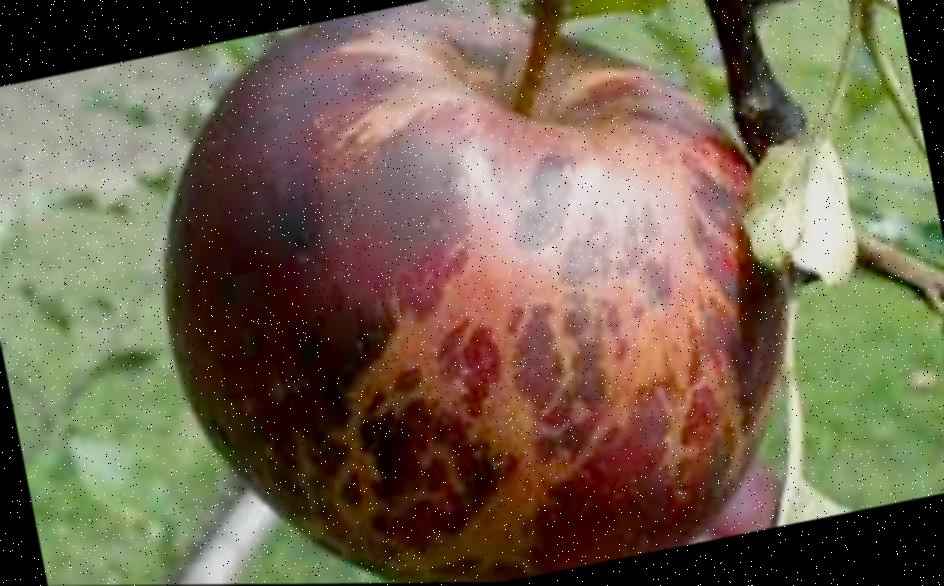BLOTCH: (87, 0, 826, 585)
